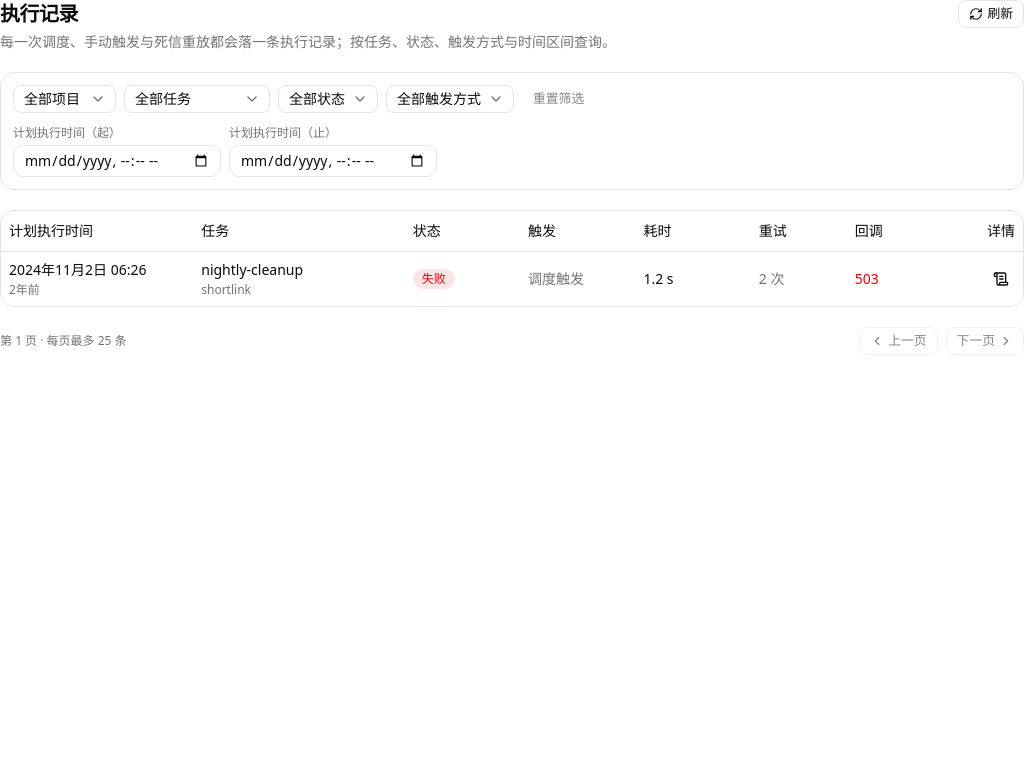
Scenario: 执行记录页 › 详情展示回调响应摘要与错误信息
Expected: the table is shown, [1, 211, 1023, 306]
Click the button named "查看执行详情". click: (1001,278)
box: [987, 264, 1015, 292]
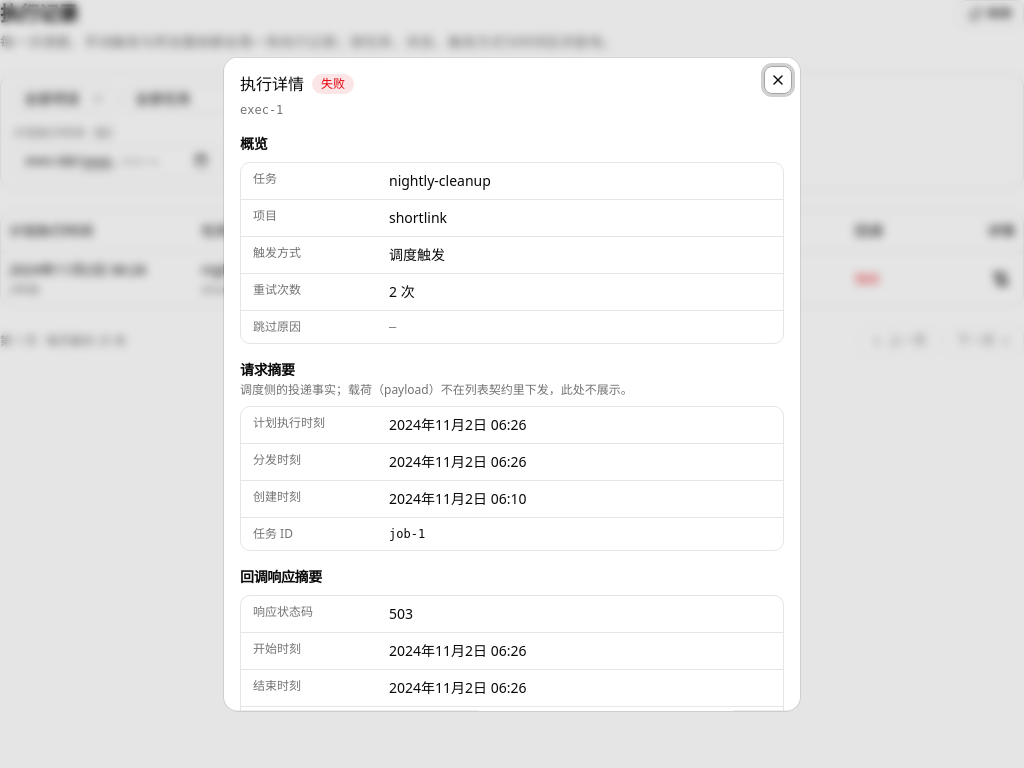
Now the heading "回调响应摘要" is shown, box [240, 567, 322, 586]
Now the text "503" is shown, box [389, 604, 413, 623]
Now the text "调度侧的投递事实；载荷（payload）不在列表契约里下发，此处不展示。" is shown, box [240, 381, 633, 398]
